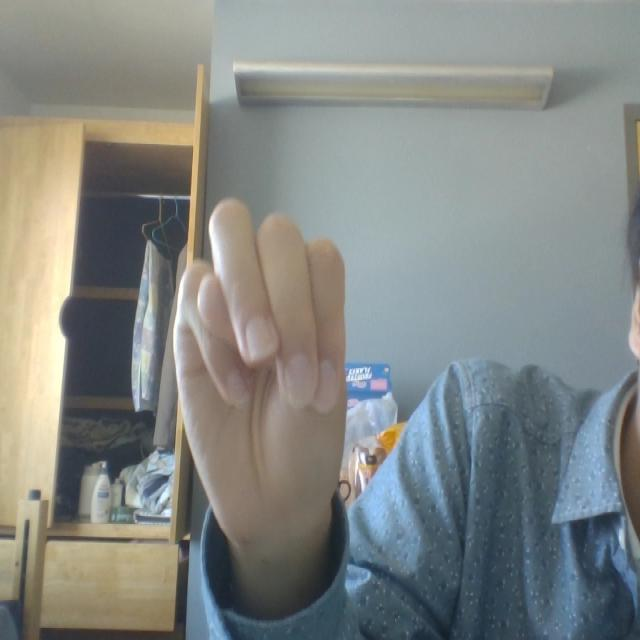M: (118, 175, 401, 556)
